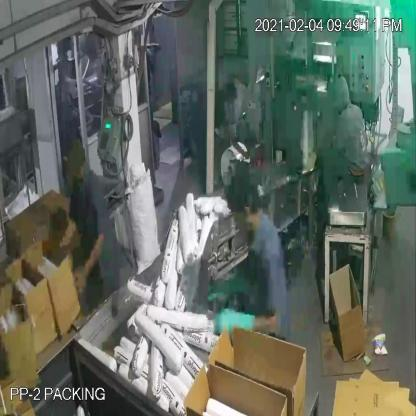glove: (194, 271, 255, 315), (206, 295, 251, 343)
no_glove: (66, 222, 116, 294)
